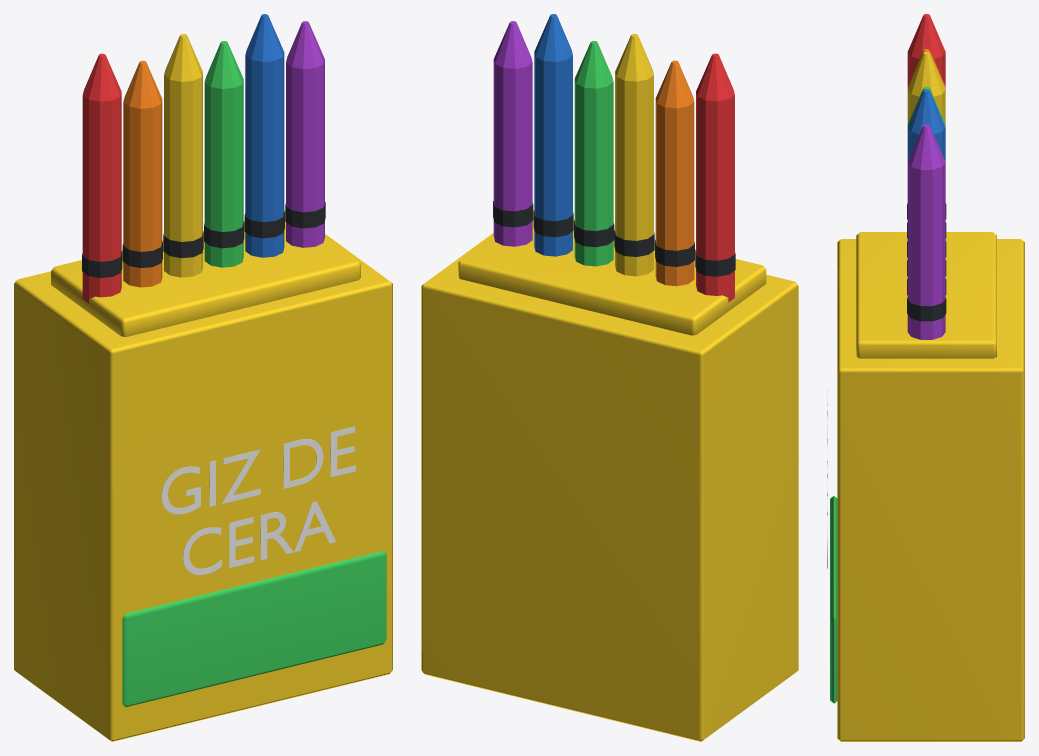
Rendered from Crayon.fbx.
The picture shows the model from 3 angles, left to right: view 1: azimuth 30°, elevation 25°; view 2: azimuth 150°, elevation 25°; view 3: azimuth 270°, elevation 25°; orthographic projection. The views are drawn at different scales.
Visible parts, largest first — view 1: Faixa verde da caixa, Giz 1, Giz 5, Ponta do giz.002, Ponta do giz.001, Ponta do giz.003, Ponta do giz.005, Rotulo giz de cera; view 2: Faixa verde da caixa, Giz 1, Giz 5, Ponta do giz.002, Ponta do giz.005, Ponta do giz.003, Ponta do giz.001; view 3: Faixa verde da caixa, Ponta do giz.005, Giz 5, Giz 1, Ponta do giz.002.
Part boxes in pixels (x1,y1,x2,y2): Faixa verde da caixa: (14,210,392,741); Giz 1: (82,53,122,303); Giz 5: (244,14,284,257); Ponta do giz.002: (163,34,203,277); Ponta do giz.001: (122,60,162,287); Ponta do giz.003: (204,41,244,267); Ponta do giz.005: (285,21,325,247); Rotulo giz de cera: (161,426,355,574); Faixa verde da caixa: (421,209,798,741); Giz 1: (695,53,735,302); Giz 5: (533,14,573,256); Ponta do giz.002: (614,33,654,276); Ponta do giz.005: (493,21,533,246); Ponta do giz.003: (574,41,614,266); Ponta do giz.001: (655,60,694,286); Faixa verde da caixa: (830,232,1024,741); Ponta do giz.005: (907,124,946,339); Giz 5: (907,89,946,294); Giz 1: (907,14,946,219); Ponta do giz.002: (907,51,946,257).
Bounding box in the file's own units: 140 × 304 × 88.6.
